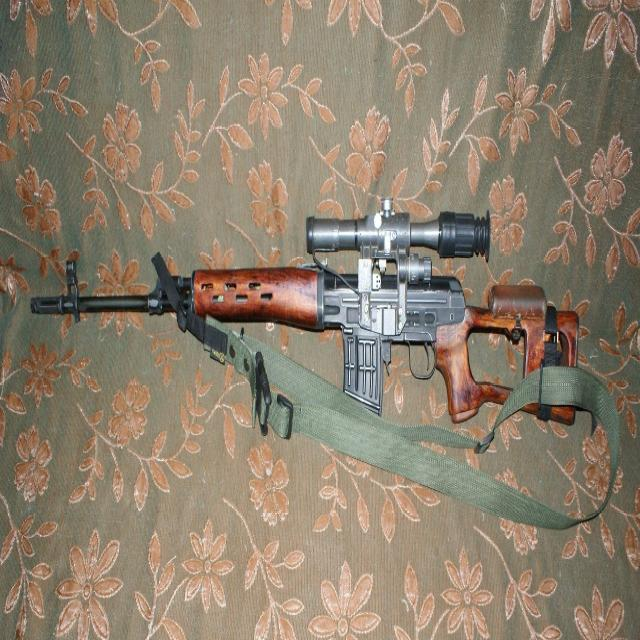firearm: (32, 192, 580, 430)
